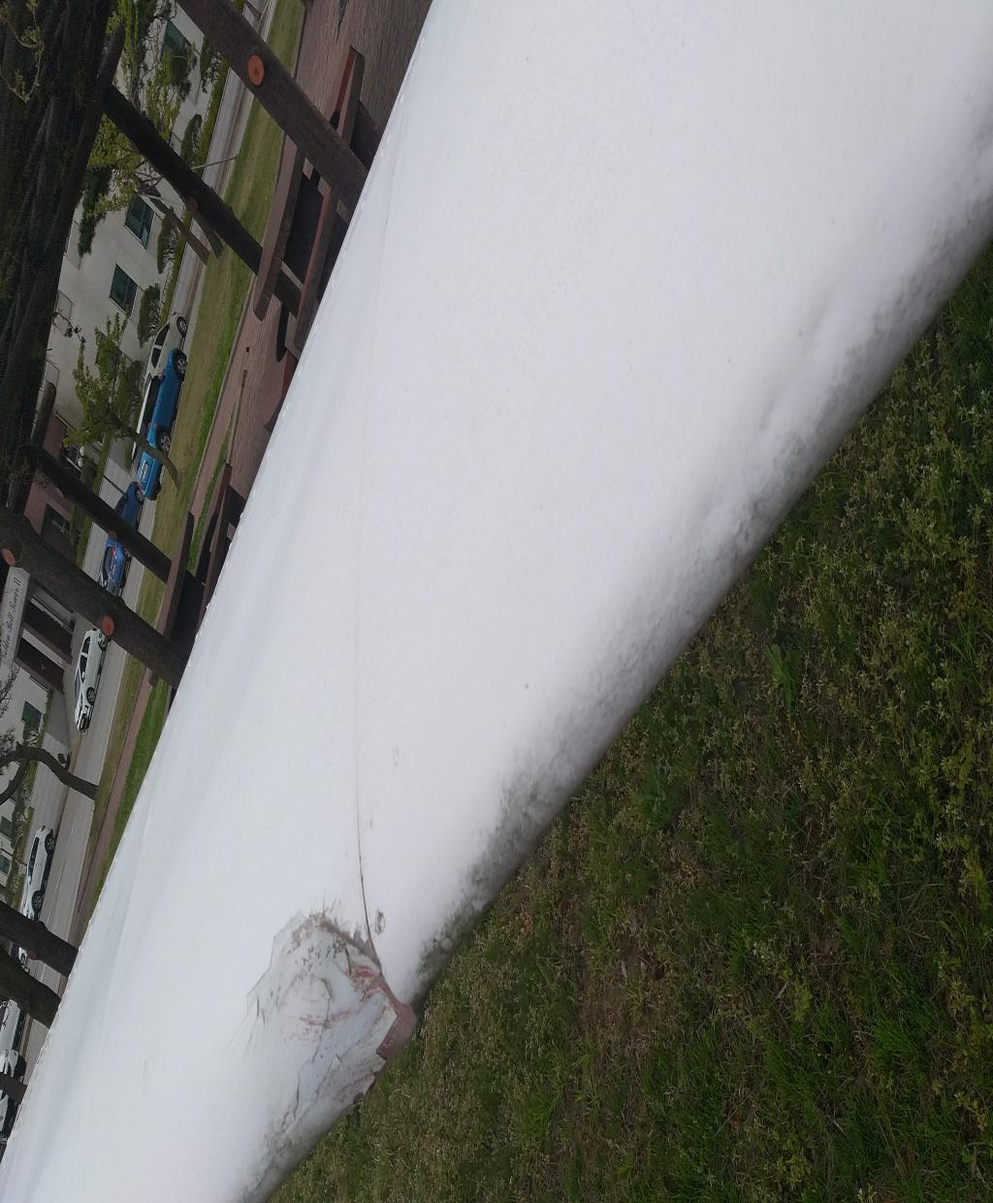corrosion: (18, 539, 136, 879)
